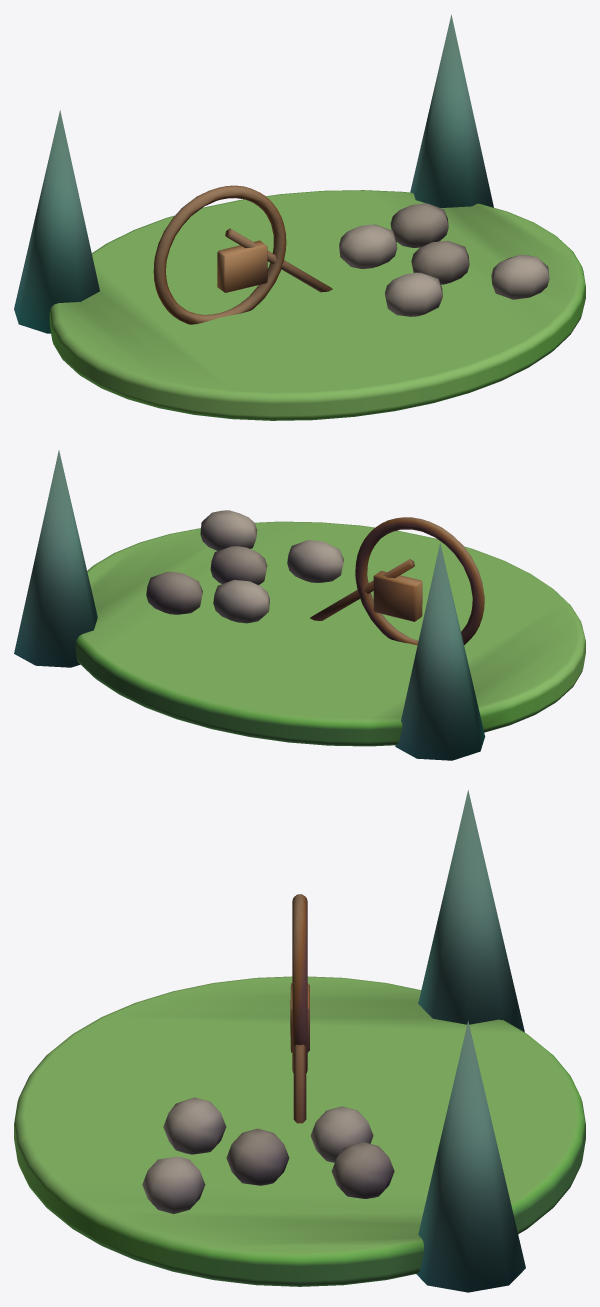
File: stones.glb
3 views of the same model, one above another, from view 1: azimuth 30°, elevation 25°; view 2: azimuth 150°, elevation 25°; view 3: azimuth 270°, elevation 25° (orthographic). The views are drawn at different scales.
Parts seen in each view (by area): view 1: stones; view 2: stones; view 3: stones.
Boxes of the visible parts, x1,y1,x2,y2 form: stones: (14,14,585,420); stones: (14,450,585,760); stones: (14,790,585,1292).
Size of the model in its own units: 6.45 by 2.6 by 5.44.
